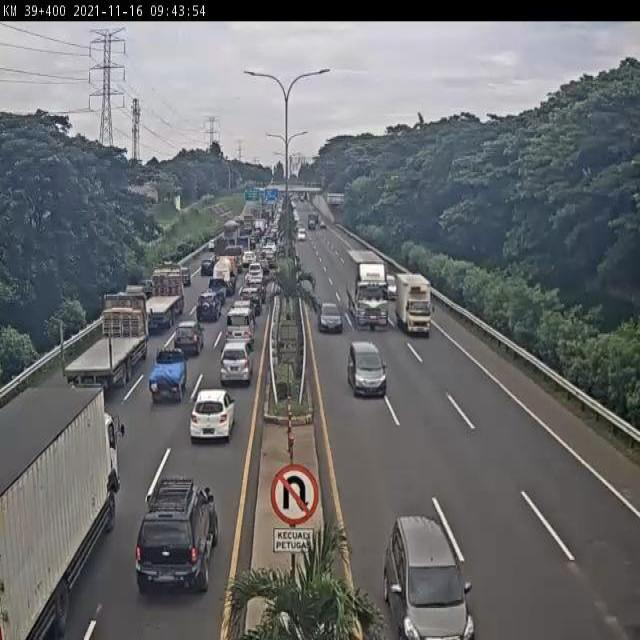car: (385, 514, 473, 640), (136, 480, 219, 595), (144, 349, 187, 408), (189, 391, 235, 444), (349, 340, 387, 400), (218, 340, 252, 387), (171, 324, 203, 363), (225, 308, 254, 349), (193, 294, 220, 329), (317, 301, 341, 336)
small truck: (396, 276, 432, 337)
truck-l-: (60, 289, 148, 395), (345, 245, 390, 332), (137, 267, 184, 328)
